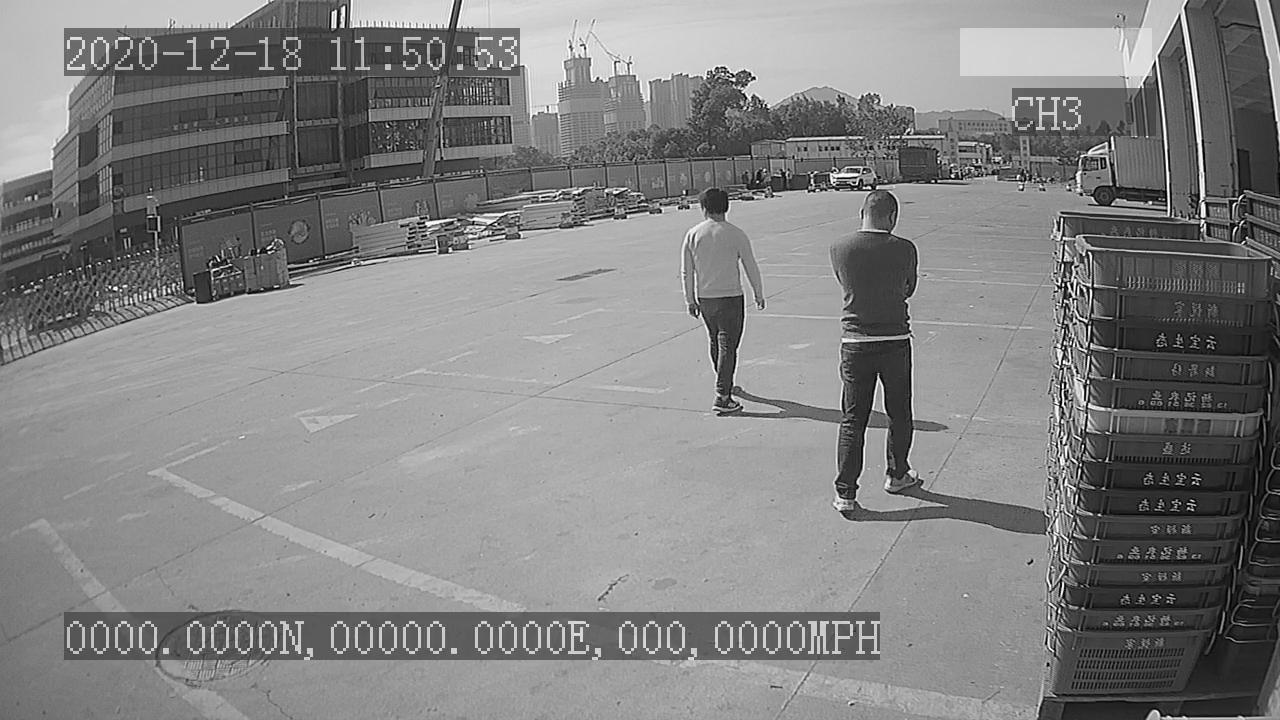person: (827, 188, 929, 517), (674, 183, 774, 420)
